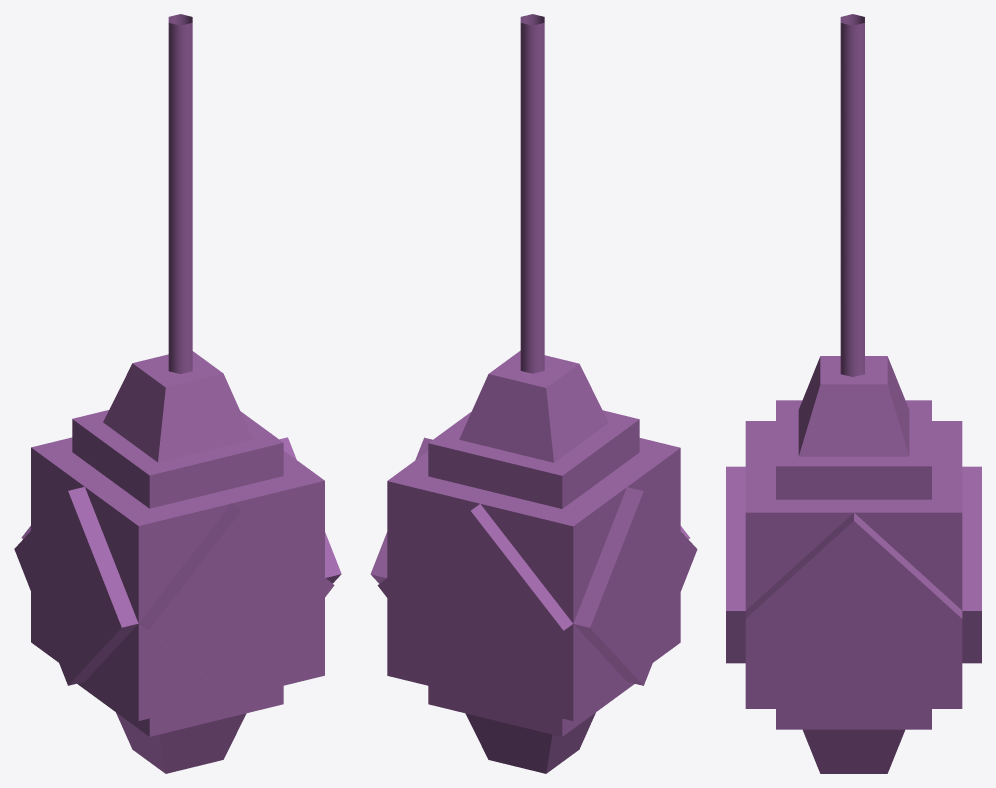
The model's file is P_Lampara_Cloacas.fbx.
The picture shows the model from 3 angles, left to right: view 1: azimuth 30°, elevation 25°; view 2: azimuth 150°, elevation 25°; view 3: azimuth 270°, elevation 25°; orthographic projection.
Parts seen in each view (by area): view 1: Lampara_Cloacas; view 2: Lampara_Cloacas; view 3: Lampara_Cloacas.
Boxes of the visible parts, bbox=[...] form: Lampara_Cloacas: bbox=[14, 14, 341, 773]; Lampara_Cloacas: bbox=[370, 14, 697, 773]; Lampara_Cloacas: bbox=[726, 14, 981, 773].
Size of the model in its own units: 0.5417 by 1.73 by 0.5417.
